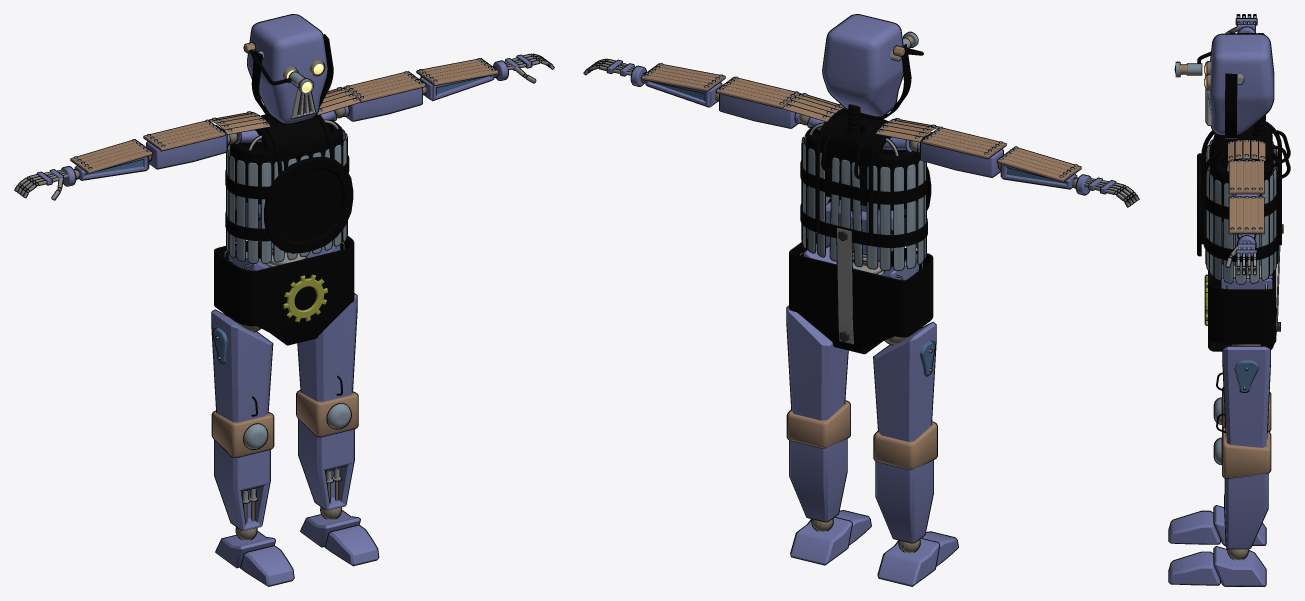
File: Robot4L.fbx
3 renders of one model, left to right at view 1: azimuth 30°, elevation 25°; view 2: azimuth 150°, elevation 25°; view 3: azimuth 270°, elevation 25°, orthographic. The views are drawn at different scales.
Parts seen in each view (by area): view 1: Cube; view 2: Cube; view 3: Cube.
Boxes of the visible parts, bbox=[...] form: Cube: bbox=[14, 14, 554, 586]; Cube: bbox=[583, 14, 1139, 586]; Cube: bbox=[1168, 14, 1290, 586].
Size of the model in its own units: 428 by 402 by 86.3.
